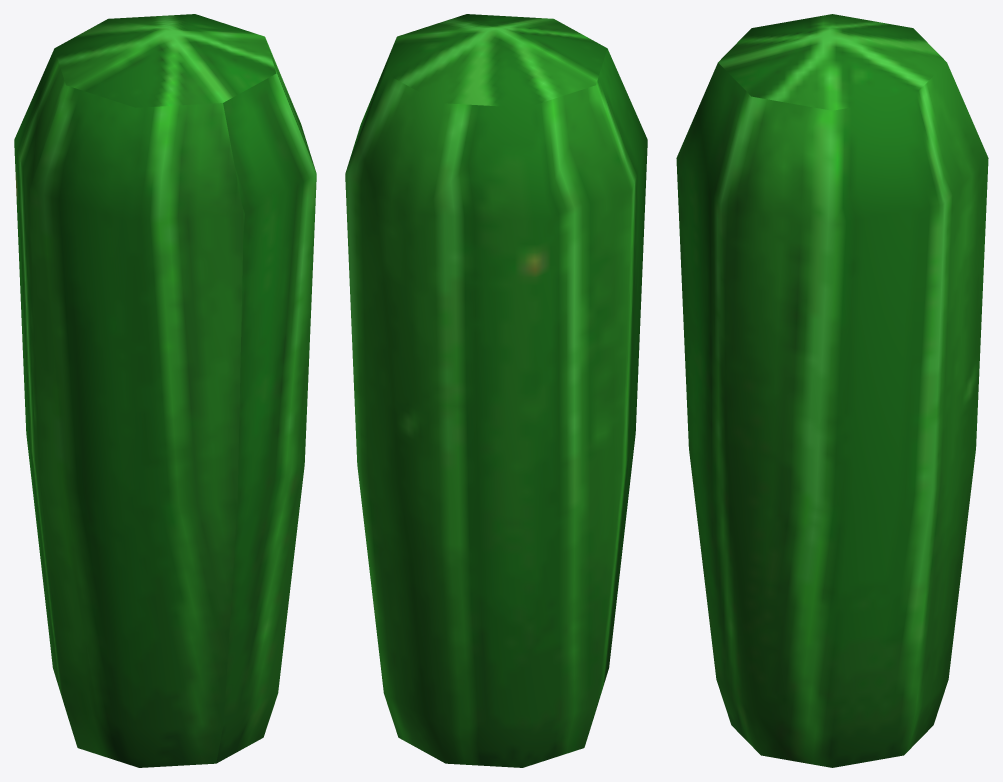
File: sm_xianrenzhang1.fbx
3 views of the same model, side by side, from view 1: azimuth 30°, elevation 25°; view 2: azimuth 150°, elevation 25°; view 3: azimuth 270°, elevation 25° (orthographic).
Visible parts, largest first — view 1: sm__xianrenzhang1; view 2: sm__xianrenzhang1; view 3: sm__xianrenzhang1.
Boxes of the visible parts, left/top/right/bottom form: sm__xianrenzhang1: left=14, top=14, right=316, bottom=767; sm__xianrenzhang1: left=345, top=14, right=647, bottom=767; sm__xianrenzhang1: left=676, top=14, right=988, bottom=767.
Size of the model in its own units: 280 by 686 by 280.
